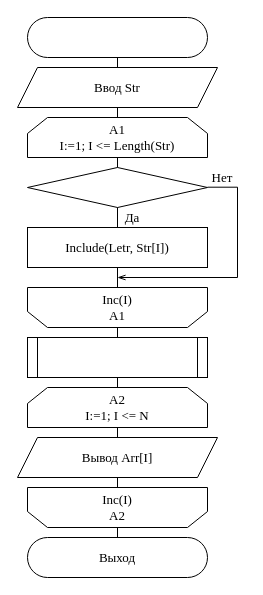
Some shapes in this 263 by 595 pixel diagram are drawn without their labels. The shapes that lost their labels are listed below. From the top down, each one's box as (x1, y1, x2, y2) in pixels, then its label:
(26, 16, 208, 58): Вход
(26, 166, 208, 208): Str[I] In Ssgz
(26, 336, 208, 378): Sort(Letr, Arr, N)
